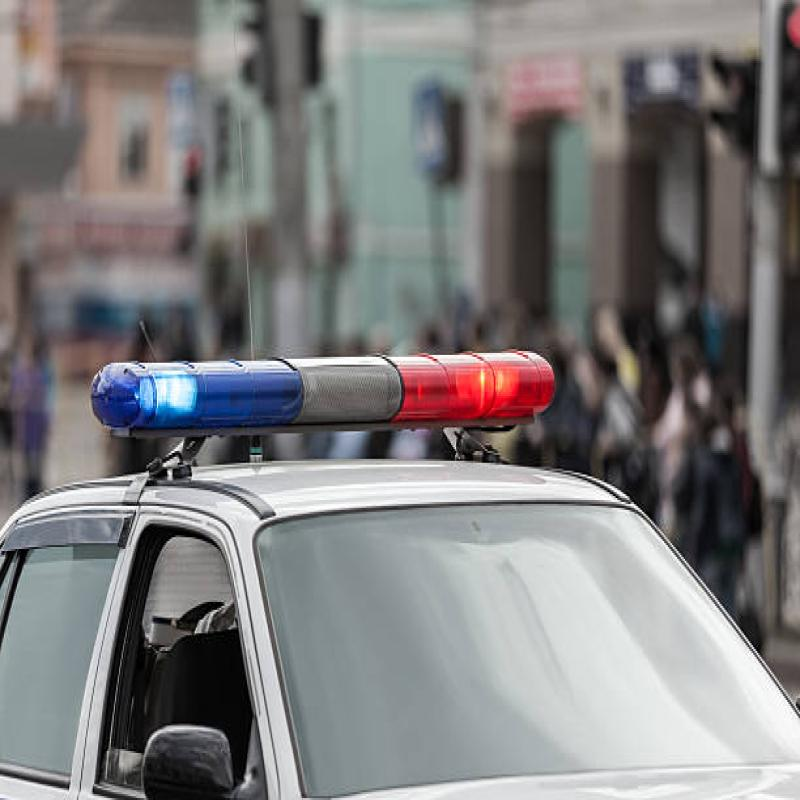AmbulanceSiren: (92, 298, 567, 461)
